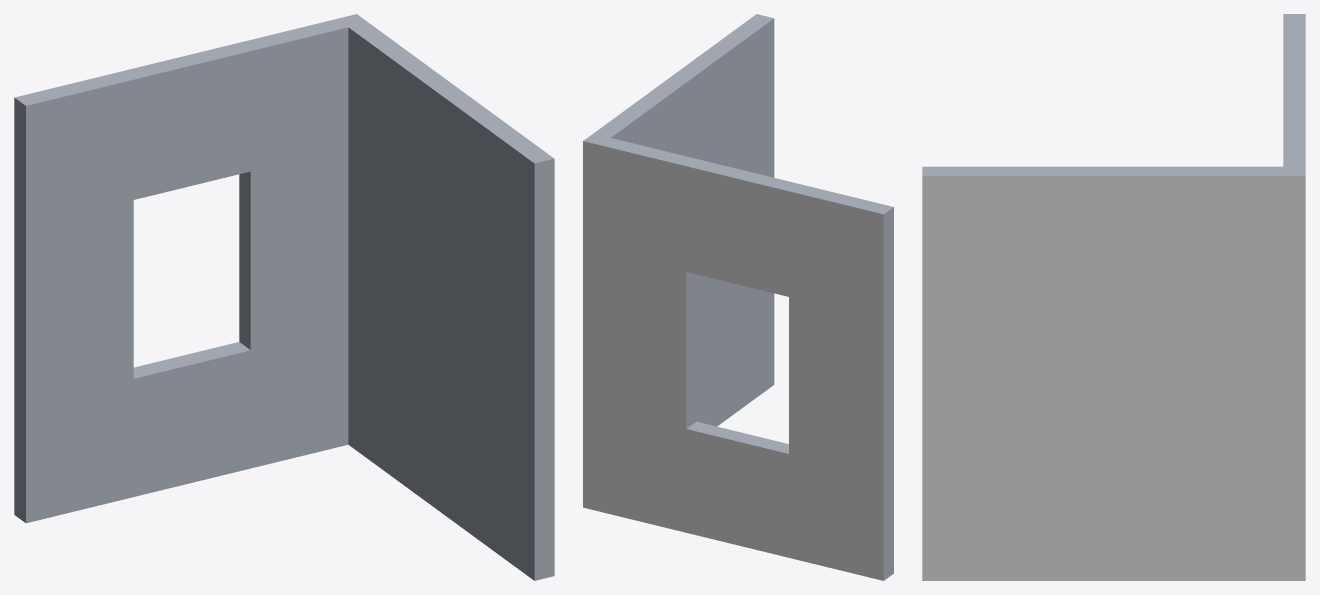
File: Wall1_C5_07.fbx
3 views of the same model, side by side, from view 1: azimuth 30°, elevation 25°; view 2: azimuth 150°, elevation 25°; view 3: azimuth 270°, elevation 25° (orthographic). The views are drawn at different scales.
Parts seen in each view (by area): view 1: Wall1_C5_07; view 2: Wall1_C5_07; view 3: Wall1_C5_07.
Part boxes in pixels (x1,y1,x2,y2): Wall1_C5_07: (14, 14, 554, 580); Wall1_C5_07: (583, 14, 893, 580); Wall1_C5_07: (922, 14, 1305, 580).
Size of the model in its own units: 258 by 300 by 258.
